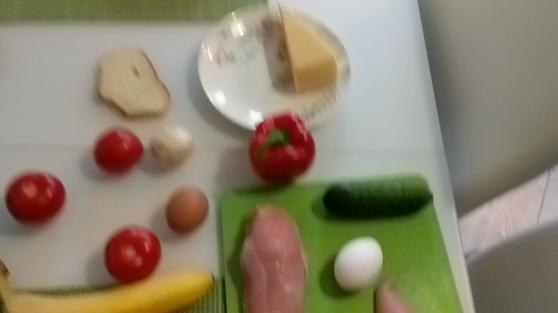banana: (3, 263, 216, 313)
champignon: (150, 126, 196, 163)
cheese: (277, 10, 338, 90)
chicken_fillet: (235, 201, 312, 313)
egg: (322, 173, 436, 216), (331, 235, 382, 292), (168, 187, 211, 234)
pepper: (249, 112, 318, 183)
tomato: (107, 224, 164, 283), (7, 170, 68, 224), (95, 127, 143, 170)
white_bread: (95, 49, 172, 113)
